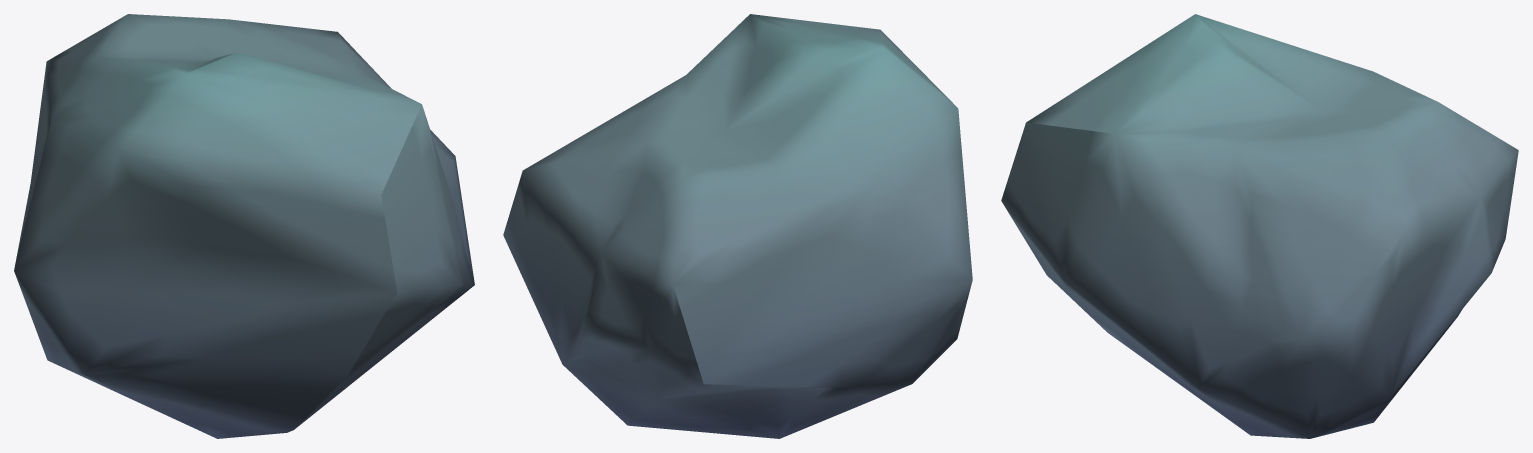
The model's file is SM_Hill_Rock_02.fbx.
3 renders of one model, left to right at view 1: azimuth 30°, elevation 25°; view 2: azimuth 150°, elevation 25°; view 3: azimuth 270°, elevation 25°, orthographic. The views are drawn at different scales.
Parts seen in each view (by area): view 1: Cube.004; view 2: Cube.004; view 3: Cube.004.
Part boxes in pixels (x1,y1,x2,y2): Cube.004: (14,14,474,438); Cube.004: (503,14,972,438); Cube.004: (1001,14,1518,438).
Size of the model in its own units: 174 by 148 by 191.
1 material, 1 textured.
